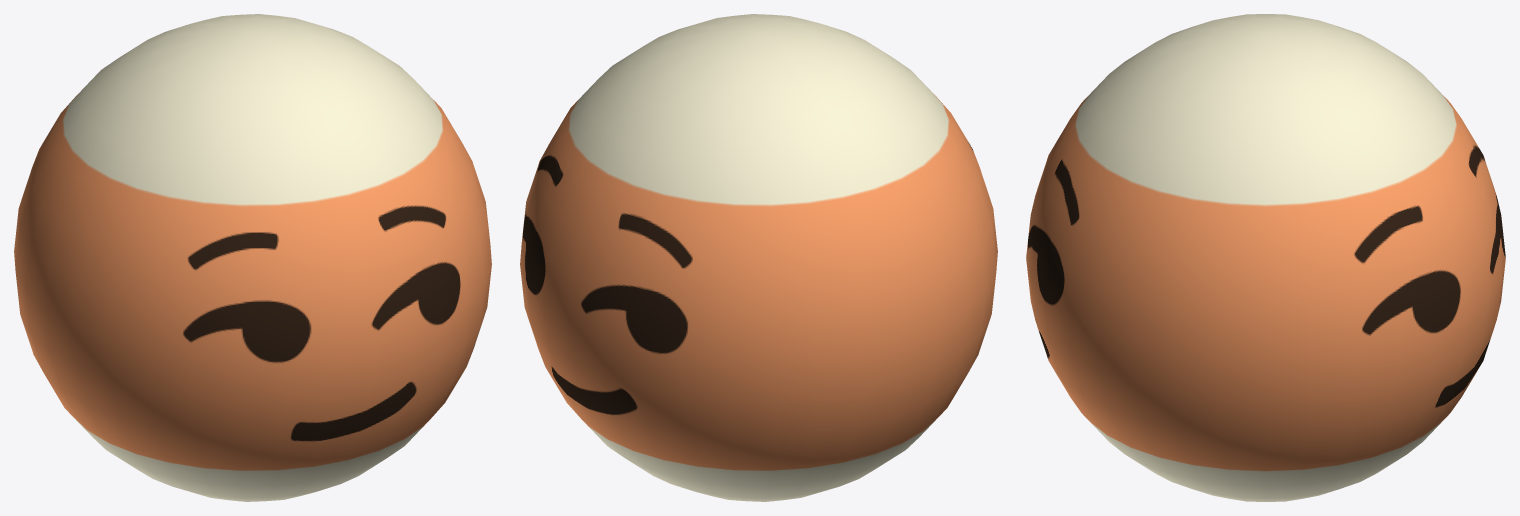
The model's file is balltheme01_13_LOD0.fbx.
3 views of the same model, side by side, from view 1: azimuth 30°, elevation 25°; view 2: azimuth 150°, elevation 25°; view 3: azimuth 270°, elevation 25° (orthographic).
Parts seen in each view (by area): view 1: balltheme01_13_LOD0; view 2: balltheme01_13_LOD0; view 3: balltheme01_13_LOD0.
Part boxes in pixels (x1,y1,x2,y2): balltheme01_13_LOD0: (14,14,491,501); balltheme01_13_LOD0: (520,14,997,501); balltheme01_13_LOD0: (1026,14,1505,501).
Bounding box in the file's own units: 5.5 × 5.67 × 5.5.
